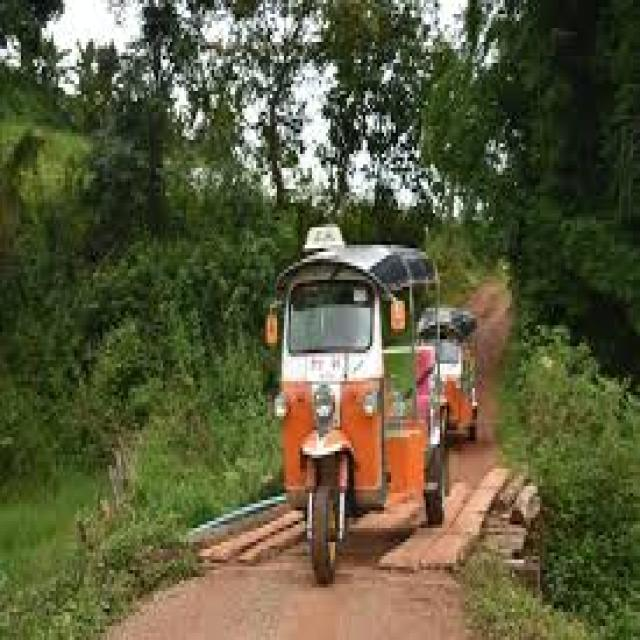tuktuk: (245, 178, 471, 603)
